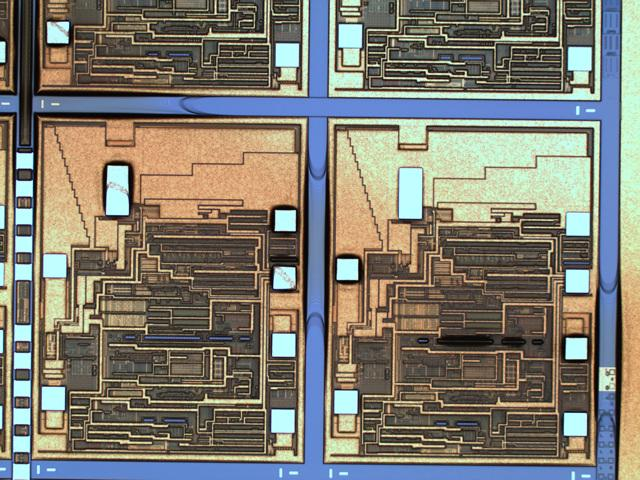COATING BAD: (1, 87, 628, 443)
